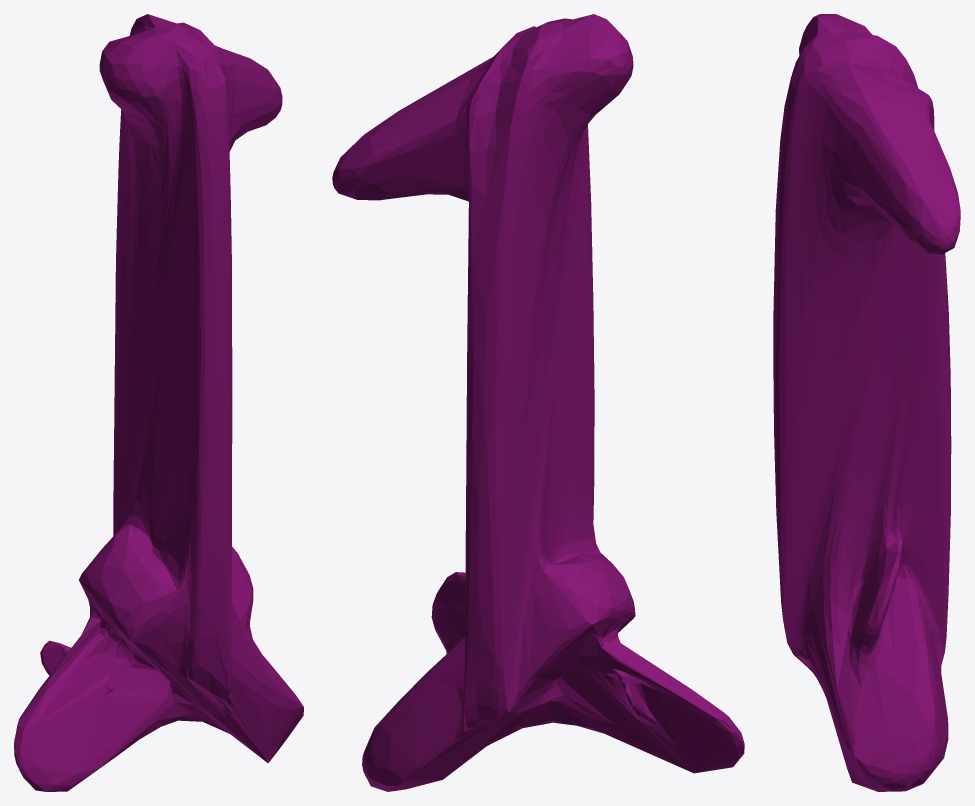
The picture shows the model from 3 angles, left to right: view 1: azimuth 30°, elevation 25°; view 2: azimuth 150°, elevation 25°; view 3: azimuth 270°, elevation 25°; orthographic projection. The views are drawn at different scales.
Visible parts, largest first — view 1: 521_Cube.2103; view 2: 521_Cube.2103; view 3: 521_Cube.2103.
Part boxes in pixels (x1,y1,x2,y2): 521_Cube.2103: [14, 14, 303, 791]; 521_Cube.2103: [332, 14, 744, 791]; 521_Cube.2103: [773, 14, 960, 791].
Bounding box in the file's own units: 6.48 × 14.38 × 3.45.
